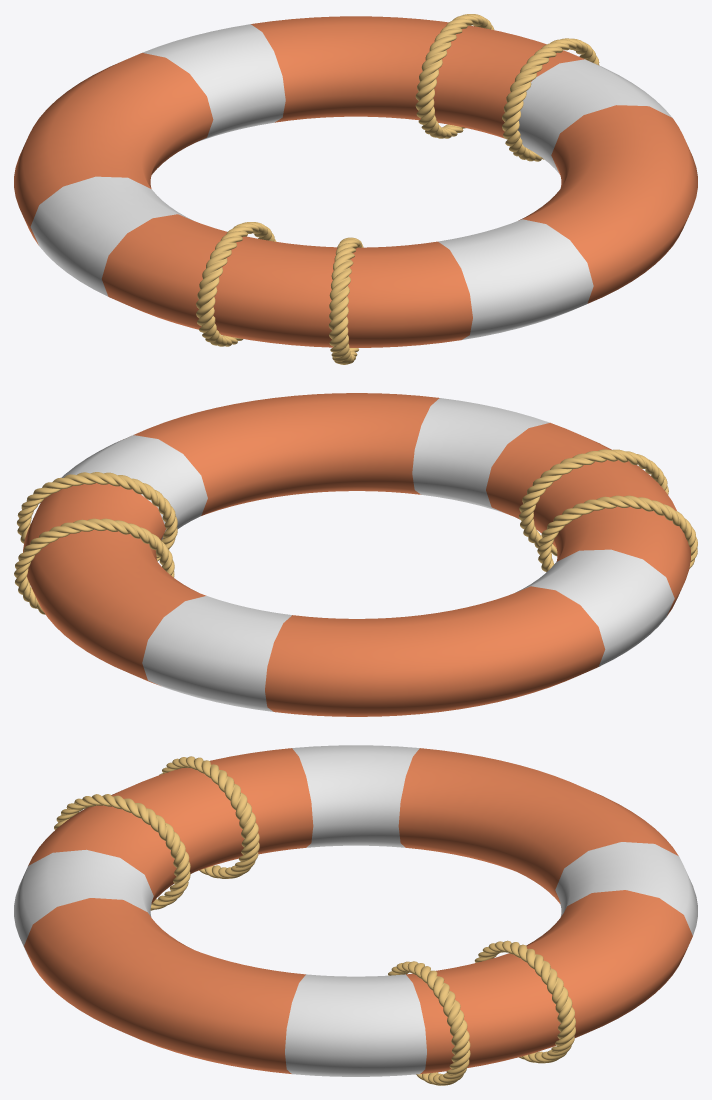
The model's file is flotadorcuerda.fbx.
3 renders of one model, top to bottom at view 1: azimuth 30°, elevation 25°; view 2: azimuth 150°, elevation 25°; view 3: azimuth 270°, elevation 25°, orthographic. The views are drawn at different scales.
Visible parts, largest first — view 1: salvavidas; view 2: salvavidas; view 3: salvavidas.
Boxes of the visible parts, box(x1,y1,x2,y2) form: salvavidas: box(14, 14, 697, 364); salvavidas: box(14, 393, 697, 716); salvavidas: box(14, 745, 697, 1085).
Size of the model in its own units: 0.7299 by 0.129 by 0.7294.
